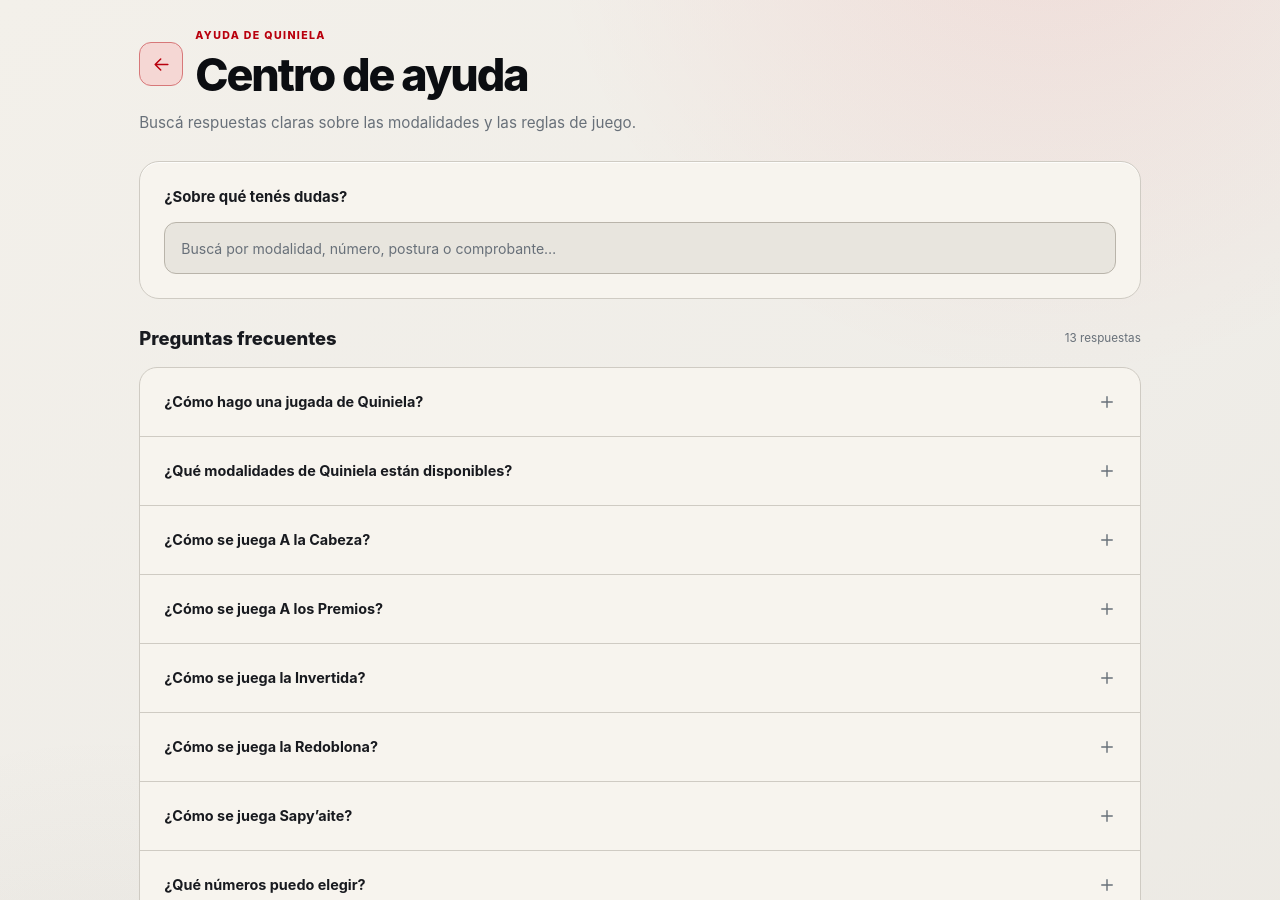
Scenario: HelpClient › searches uppercase accented terms, updates the count and keeps input focus
The width and height of the screenshot is (1280, 900).
Type "  PERMUTACIÓN  " into the search field labelled "¿Sobre qué tenés dudas?" at (640, 248), box x1=164 y1=222 x2=1116 y2=274
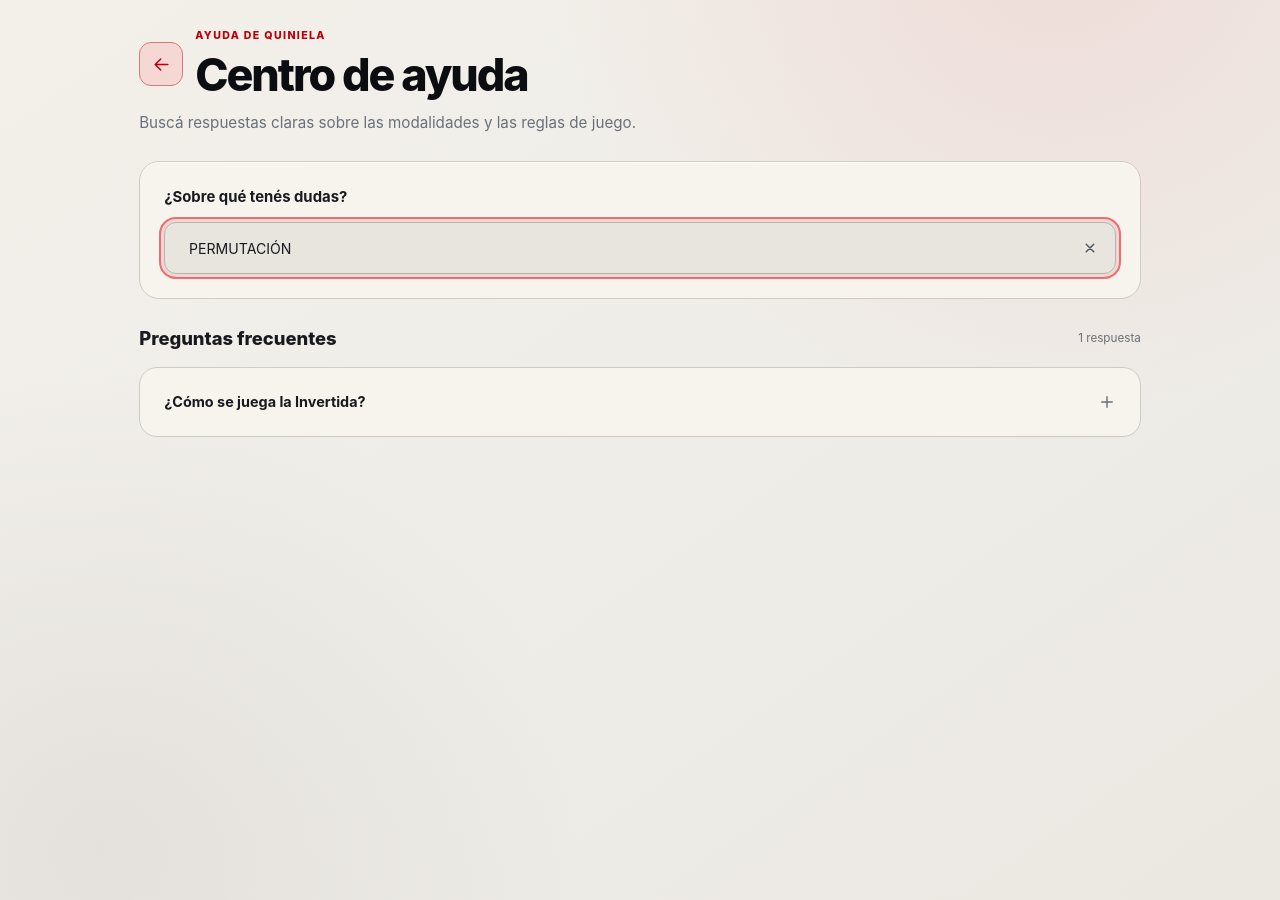
Expected: the message reads "1 respuesta", x1=1078 y1=330 x2=1141 y2=348
Expected: the button named "Limpiar búsqueda" is shown, x1=1068 y1=226 x2=1112 y2=270
